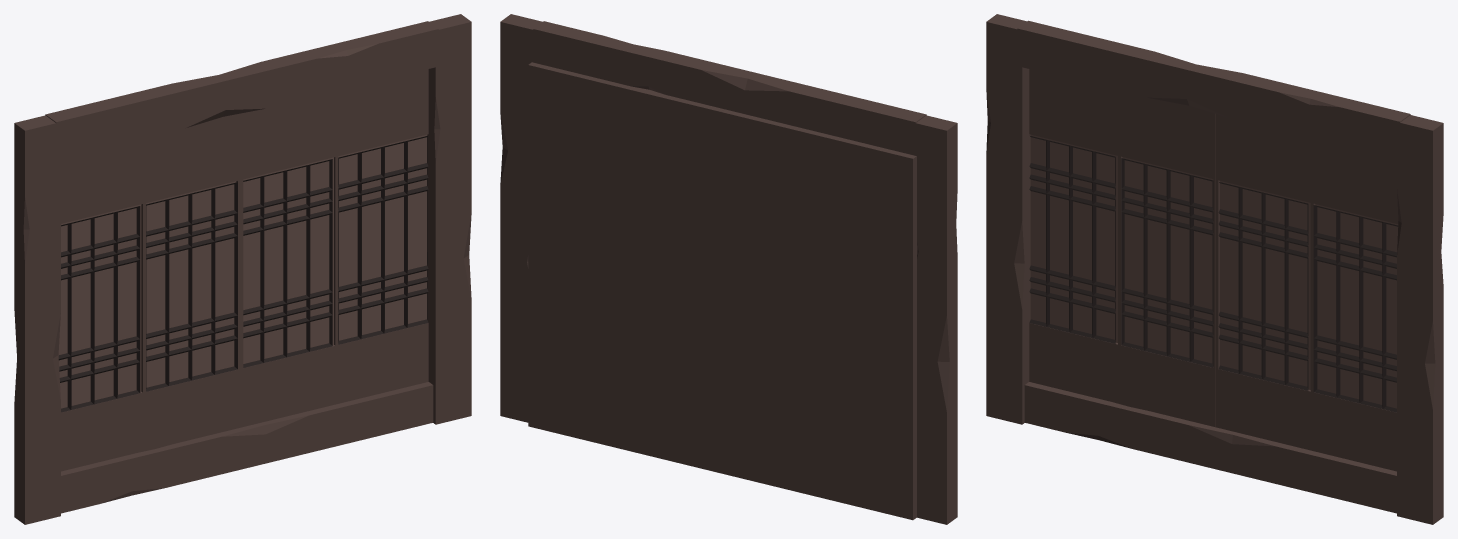
The model's file is SM_Env_Door_16.fbx.
3 views of the same model, side by side, from view 1: azimuth 30°, elevation 25°; view 2: azimuth 150°, elevation 25°; view 3: azimuth 330°, elevation 25° (orthographic).
Visible parts, largest first — view 1: SM_Env_Door_16; view 2: SM_Env_Door_16; view 3: SM_Env_Door_16.
Boxes of the visible parts, x1,y1,x2,y2 form: SM_Env_Door_16: [14, 14, 471, 524]; SM_Env_Door_16: [500, 14, 957, 524]; SM_Env_Door_16: [986, 14, 1443, 524].
Size of the model in its own units: 183 by 155 by 10.22.
Materials: 1 (1 with a texture image).
